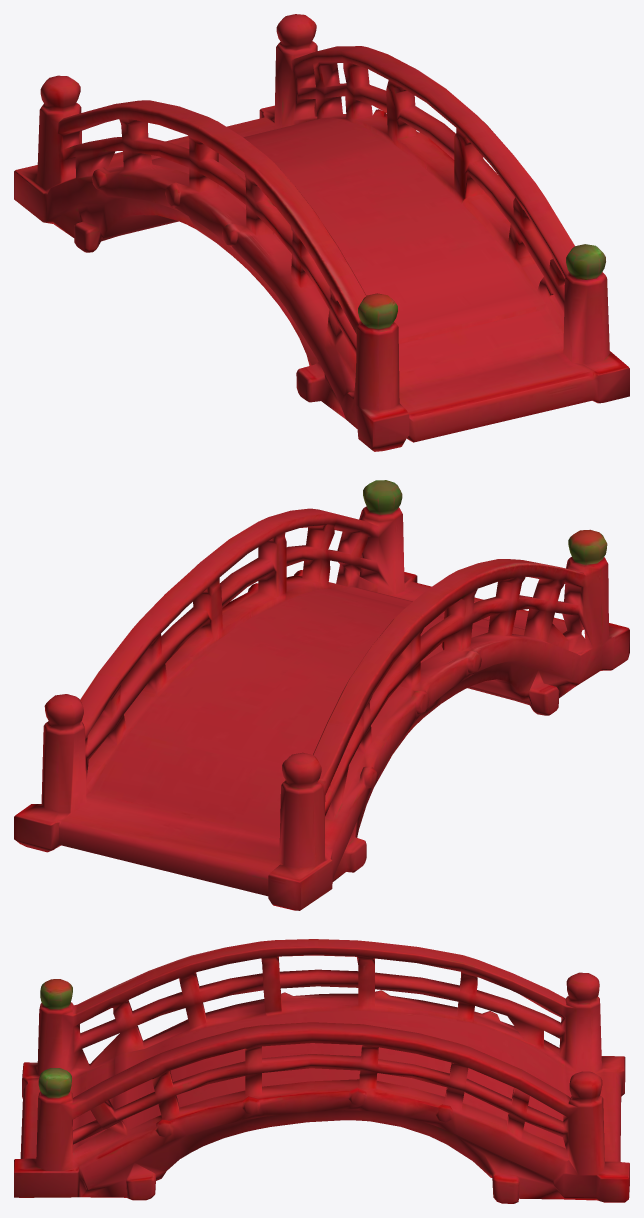
File: bridge.glb
3 views of the same model, one above another, from view 1: azimuth 30°, elevation 25°; view 2: azimuth 150°, elevation 25°; view 3: azimuth 270°, elevation 25° (orthographic). The views are drawn at different scales.
Parts seen in each view (by area): view 1: prop-bridge.glb; view 2: prop-bridge.glb; view 3: prop-bridge.glb.
Part boxes in pixels (bbox=[...]): prop-bridge.glb: bbox=[14, 14, 629, 451]; prop-bridge.glb: bbox=[14, 480, 629, 910]; prop-bridge.glb: bbox=[14, 939, 629, 1203].
Bounding box in the file's own units: 0.4692 × 0.2935 × 0.9995.
1 material, 1 textured.
